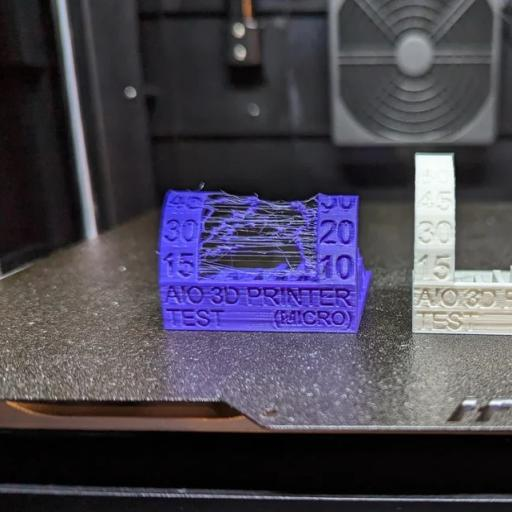stringing: (209, 200, 314, 266)
